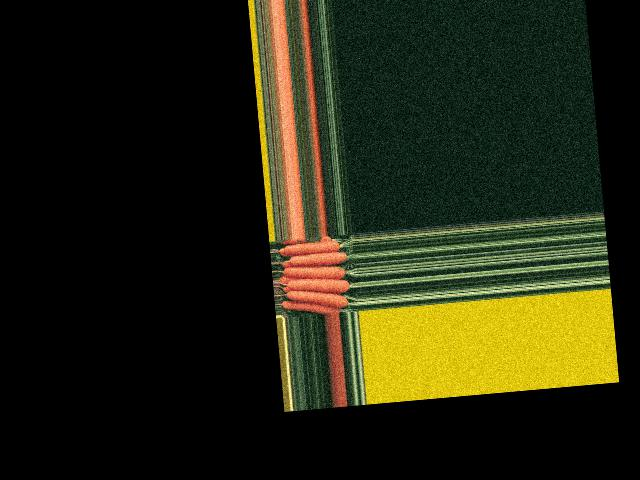carrot: (282, 294, 342, 318)
